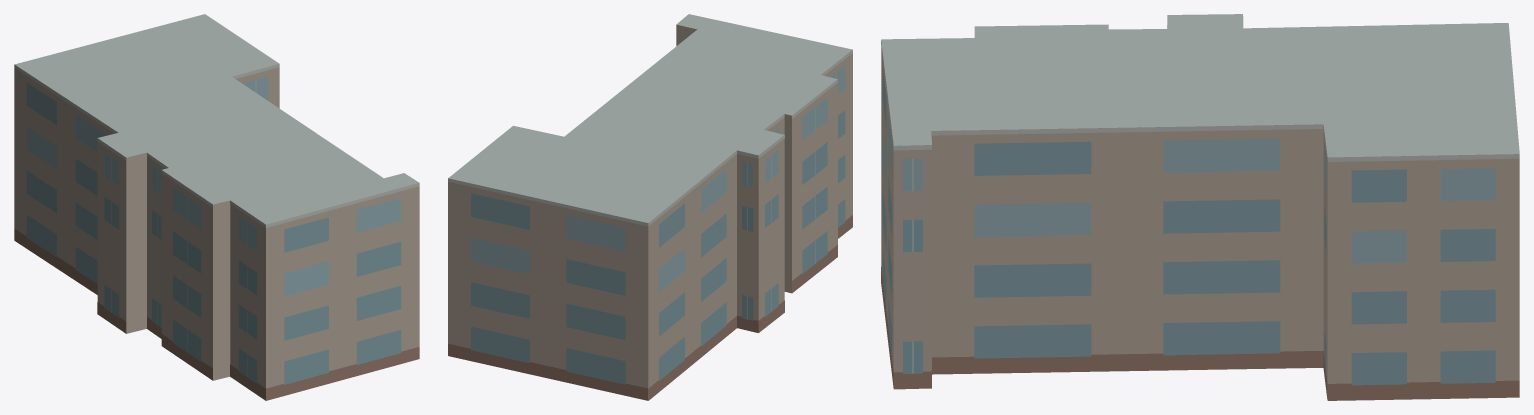
File: survey-upis-32733329.glb
3 views of the same model, side by side, from view 1: azimuth 30°, elevation 25°; view 2: azimuth 150°, elevation 25°; view 3: azimuth 270°, elevation 25° (orthographic). The views are drawn at different scales.
Visible parts, largest first — view 1: survey-upis-32733329.tmp; view 2: survey-upis-32733329.tmp; view 3: survey-upis-32733329.tmp.
Part boxes in pixels (bbox=[...]): survey-upis-32733329.tmp: bbox=[14, 14, 419, 400]; survey-upis-32733329.tmp: bbox=[448, 14, 852, 400]; survey-upis-32733329.tmp: bbox=[881, 14, 1519, 400].
Size of the model in its own units: 16.18 by 12.8 by 30.44.
